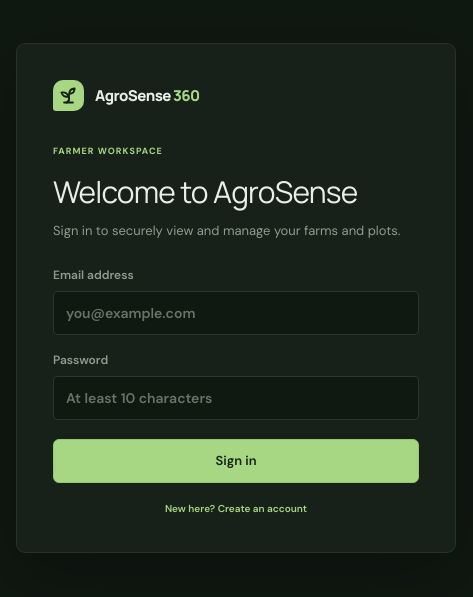
Test: App navigation › shows incorrect-credential errors on the login page
This screenshot has width=473, height=597.
Type "farmer@example.com" into the field labelled "Email address" at (236, 313), box 53,291 -> 419,335
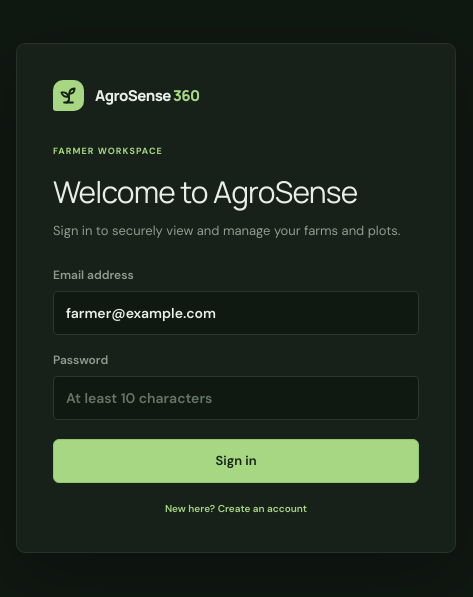
Type "wrong-password" into the password field labelled "Password" at (236, 398), box 53,376 -> 419,420
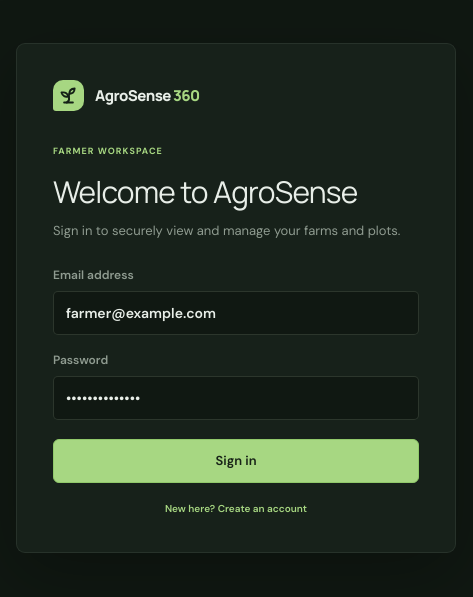
Click the button "Sign in" at (236, 461), box 53,439 -> 419,483
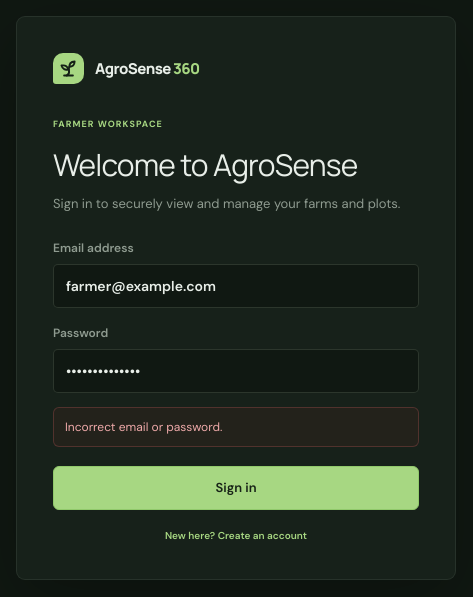
Expected: the message reads "Incorrect email or password.", 65,419 -> 222,435
